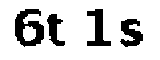1: (81, 5, 113, 49)
6: (10, 5, 45, 49)
s: (116, 16, 146, 51)
t: (46, 12, 71, 48)
